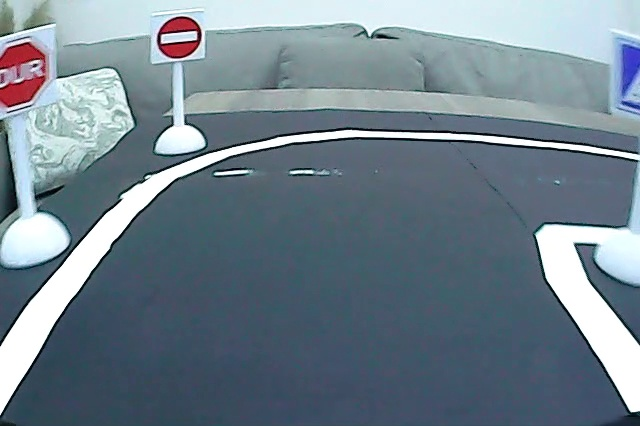do not enter: (156, 14, 204, 62)
stop sign: (1, 35, 50, 113)
